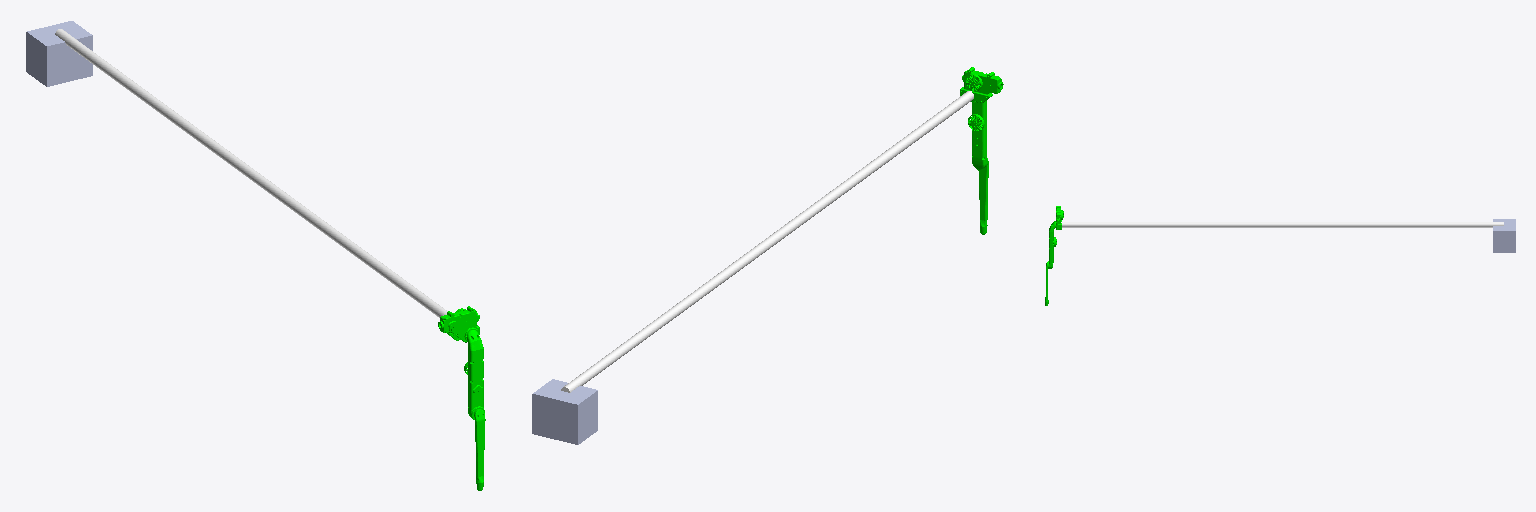
robot.urdf — monopod-fixed_hip_visualizer:
<?xml version="1.0" encoding="utf-8"?>
<!-- This URDF was automatically created by SolidWorks to URDF Exporter! Originally created by [author] ([email redacted])
     Commit Version: 1.6.0-1-g15f4949  Build Version: 1.6.7594.29634
     For more information, please see http://wiki.ros.org/sw_urdf_exporter -->
<robot name="monopod-fixed_hip_visualizer">
  <link name="world" />

<!-- Central pivot link -->

  <link name="central_pivot_link">
    <inertial>
      <origin
        xyz="0 0 80E-3"
        rpy="0 0 0" />
      <mass
        value="2.424" />
      <inertia
        ixx="20310.796E-6"
        ixy="-2.157E-6"
        ixz="-67.637E-6"
        iyy="21642.88E-6"
        iyz="-19.042E-6"
        izz="8571.224E-6" />
    </inertial>
    <visual>
      <origin
        xyz="0 0 0"
        rpy="0 0 0" />
      <geometry>
        <mesh
          filename="package://monopod-fixed_hip_visualizer/meshes/central_pivot.STL" />
      </geometry>
      <material
        name="">
        <color
          rgba="0.792156862745098 0.819607843137255 0.933333333333333 1" />
      </material>
    </visual>
    <collision>
      <origin xyz="0 0 0" rpy="0 0 0" />
      <geometry>
        <mesh
          filename="package://monopod-fixed_hip_visualizer/meshes/central_pivot.STL" />
      </geometry>
    </collision>
  </link>

<!-- Connect link to world. rotates in yaw -->

  <joint name="planarizer_yaw_joint" type="continuous">
      <origin
        xyz="0 0 0.11"
        rpy="0 3.14159265359 0" />
     <parent link="world"/>
     <child link="central_pivot_link"/>
     <axis xyz="0 0 1" />
     <dynamics
       damping="0"
       friction="0.01" />
  </joint>

  <!-- Boom link -->

  <link name="boom_link">
    <inertial>
      <origin xyz="0 -1.0 0" rpy="0 0 0" />
    <mass value="0.692" />
    <inertia
      ixx="138009.606E-6"
      ixy="0"
      ixz="0"
      iyy="61.714E-06"
      iyz="0"
      izz="138009.606E-6" />
    </inertial>
    <visual>
      <origin xyz="0 0 0" rpy="0 0 0" />
      <geometry>
        <mesh filename="package://monopod-fixed_hip_visualizer/meshes/boom.STL" />
      </geometry>
      <material name="">
        <color rgba="1 1 1 1" />
      </material>
    </visual>
    <collision>
      <origin xyz="0 0 0" rpy="0 0 0" />
      <geometry>
        <mesh filename="package://monopod-fixed_hip_visualizer/meshes/boom.STL" />
      </geometry>
    </collision>
  </link>

<!-- Boom pitch joint -->

  <joint name="planarizer_pitch_joint" type="continuous">
    <origin xyz="0 0 0" rpy="0 0 0"/>
    <parent link="central_pivot_link" />
    <child link="boom_link" />
    <axis xyz="1 0 0" />
    <dynamics damping="0" friction="0.01" />
  </joint>


  <link name="hip_link">
    <inertial>
      <origin
        xyz="-2.016E-3 26.789E-3 18.092E-3"
        rpy="0 0 0" />
      <mass value="0.176" />
      <inertia
        ixx="184.527E-6"
        ixy="11.976E-6"
        ixz="-1.511E-6"
        iyy="114.265E-6"
        iyz="-25.916E-6"
        izz="103.342E-6" />
    </inertial>
    <visual>
      <origin xyz="0 0 0" rpy="0 0 0" />
      <geometry>
        <mesh
          filename="package://monopod-fixed_hip_visualizer/meshes/hip.STL" />
      </geometry>
      <material name="">
        <color rgba="0 255 0 1" />
      </material>
    </visual>
    <collision>
      <origin xyz="0 0 0" rpy="0 0 0" />
      <geometry>
        <mesh filename="package://monopod-fixed_hip_visualizer/meshes/hip.STL" />
      </geometry>
    </collision>
  </link>

<!-- Hip free joint -->

  <joint name="boom_connector_joint" type="fixed">
    <origin xyz="0 -2.01 0" rpy="-1.57 0 -1.57" />
    <parent
      link="boom_link" />
    <child
      link="hip_link" />
    <axis
      xyz="1 0 0" />
    <dynamics
      damping="0"
      friction="0.01" />
  </joint>

<!-- Upper leg link -->

  <link name="upper_leg_link">
    <inertial>
      <origin
        xyz="-7.414E-3 -0.013E-3 112.131E-3"
        rpy="3.14159265359 0 0" />
      <!-- <origin
        xyz="-7.414E-3 -0.013E-3 87.869E-3"
        rpy="0 0 0" /> -->
      <mass
        value="0.173" />
      <inertia
        ixx="610.774E-6"
        ixy="0.003E-6"
        ixz="54.9E-6"
        iyy="609.304E-6"
        iyz="-0.054E-6"
        izz="37.407E-6" />
    </inertial>
    <visual>
      <origin
        xyz="0 0 0.2"
        rpy="3.14159265359 0 0" />
      <!-- <origin
        xyz="0 0 0"
        rpy="0 0 0" /> -->
      <geometry>
        <mesh filename="package://monopod-fixed_hip_visualizer/meshes/upper_leg.STL" />
      </geometry>
      <material name="">
        <color rgba="0 255 0 1" />
      </material>
    </visual>
    <collision>
      <origin
        xyz="0 0 0.2"
        rpy="3.14159265359 0 0" />
      <!-- <origin
        xyz="0 0 0"
        rpy="0 0 0" /> -->
      <geometry>
        <mesh filename="package://monopod-fixed_hip_visualizer/meshes/upper_leg.STL" />
      </geometry>
    </collision>
  </link>

<!-- Actuated hip joint -->

  <joint
    name="hip_joint"
    type="continuous">
    <origin
      xyz="0.035 0 0"
      rpy="1.57 0 0" />
    <parent link="hip_link" />
    <child link="upper_leg_link" />
    <axis xyz="1 0 0" />
    <!-- <limit
      lower="-6.28"
      upper="6.28"
      effort="50"
      velocity="3.1415926535916" /> -->
    <dynamics
      damping="0"
      friction="0.01" />
  </joint>

<!-- Lower leg link -->

  <link name="lower_leg_link">
    <inertial>
      <origin
        xyz="0.832E-3 0.048E-3 -94.965E-3"
        rpy="0 0 0" />
      <mass value="0.056" />
      <inertia
        ixx="235.645E-6"
        ixy="0.002E-6"
        ixz="3.608E-6"
        iyy="234.464E-6"
        iyz="-0.001E-6"
        izz="2.814E-6" />
    </inertial>
    <visual>
      <origin
        xyz="0 0 0"
        rpy="0 0 0" />
      <geometry>
        <mesh
          filename="package://monopod-fixed_hip_visualizer/meshes/lower_leg.STL" />
      </geometry>
      <material
        name="">
        <color rgba="0 255 0 1" />
      </material>
    </visual>
    <collision>
      <origin
        xyz="0 0 0"
        rpy="0 0 0" />
      <geometry>
        <mesh
          filename="package://monopod-fixed_hip_visualizer/meshes/lower_leg.STL" />
      </geometry>
    </collision>
  </link>

<!-- Lower leg actuated joint -->

  <joint
    name="knee_joint"
    type="continuous">
    <!-- type="revolute"> -->
    <origin
      xyz="0.019 0 0.2"
      rpy="3.14159265359 0 0" />
    <parent link="upper_leg_link" />
    <child link="lower_leg_link" />
    <axis xyz="1 0 0" />
    <!-- <limit
      lower="-6.28"
      upper="6.28"
      effort="50"
      velocity="3.1415926535916" /> -->
    <dynamics
      damping="0"
      friction="0.01" />
  </joint>
</robot>

--- Render facts (derived) ---
The picture shows the robot from 3 angles, left to right: view 1: azimuth 30°, elevation 25°; view 2: azimuth 150°, elevation 25°; view 3: azimuth 270°, elevation 25°; orthographic projection.
Robot: monopod-fixed_hip_visualizer — 6 links, 5 joints (4 continuous, 1 fixed); root link world; default pose: all joints at 0.
Visible links, largest first — view 1: boom_link, central_pivot_link, upper_leg_link, hip_link, lower_leg_link; view 2: boom_link, central_pivot_link, upper_leg_link, hip_link, lower_leg_link; view 3: boom_link, central_pivot_link.
Boxes of the visible links, x1,y1,x2,y2 form: boom_link: (55, 29, 447, 317); central_pivot_link: (26, 21, 92, 86); upper_leg_link: (464, 329, 484, 419); hip_link: (438, 306, 479, 342); lower_leg_link: (474, 409, 485, 490); boom_link: (561, 91, 973, 392); central_pivot_link: (532, 379, 597, 444); upper_leg_link: (968, 101, 987, 169); hip_link: (960, 67, 1003, 102); lower_leg_link: (978, 161, 988, 234); boom_link: (1061, 222, 1503, 227); central_pivot_link: (1493, 219, 1515, 252).
Bounding box of the posed robot: 0.1473 × 2.12 × 0.4743 m (x, y, z).
5 mesh visuals loaded from 5 distinct referenced files (5 binary STL).